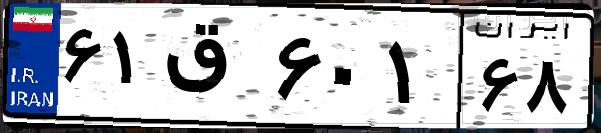0: (330, 28, 385, 110)
1: (385, 28, 445, 110), (110, 28, 158, 98)
6: (270, 28, 330, 110), (57, 26, 110, 100), (475, 38, 525, 113)
8: (525, 38, 570, 115)
ق: (158, 20, 270, 120)
